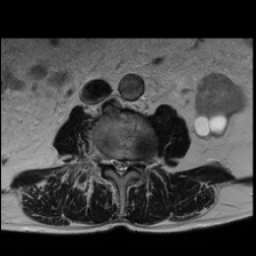CCS_stenosis: (118, 154, 123, 179)
LFS_stenosis: (130, 155, 138, 169)
LLS_stenosis: (123, 155, 130, 173)
RFS_normal: (104, 150, 111, 170)
RLS_stenosis: (111, 154, 118, 173)
